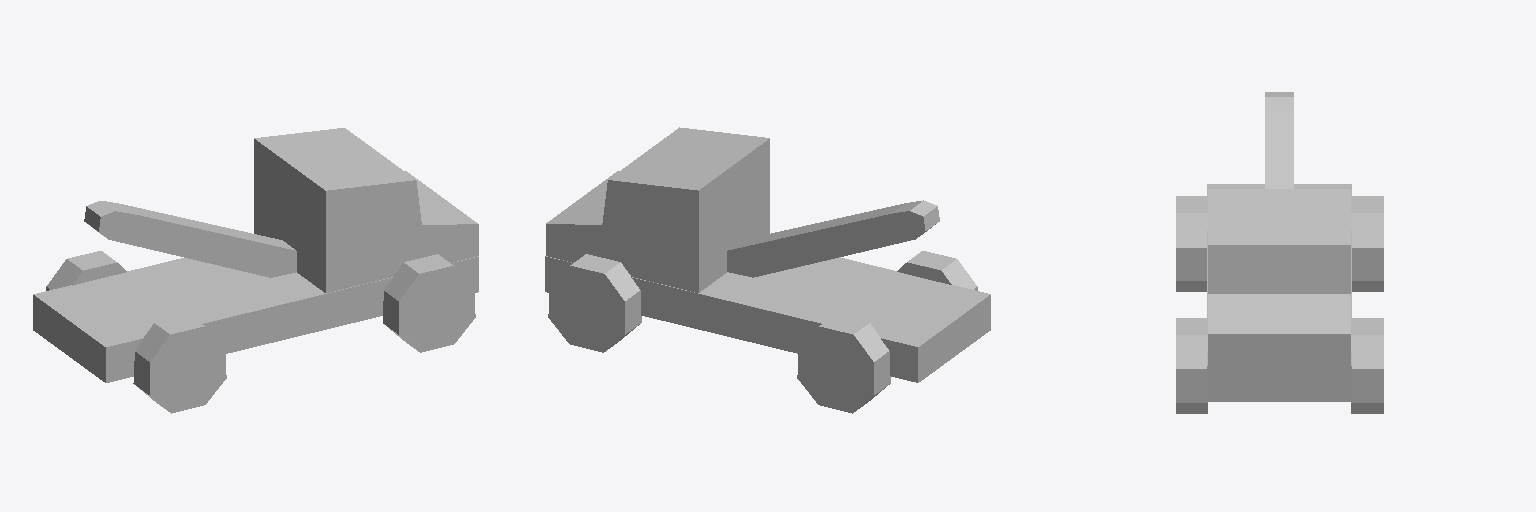
File: s_truck.obj
3 views of the same model, side by side, from view 1: azimuth 30°, elevation 25°; view 2: azimuth 150°, elevation 25°; view 3: azimuth 270°, elevation 25° (orthographic).
Visible parts, largest first — view 1: Cube; view 2: Cube; view 3: Cube.
Boxes of the visible parts, box(x1,y1,x2,y2) form: Cube: box(33, 128, 478, 413); Cube: box(545, 127, 990, 413); Cube: box(1176, 92, 1383, 413).
Bounding box in the file's own units: 0.3852 × 0.1705 × 0.1852.